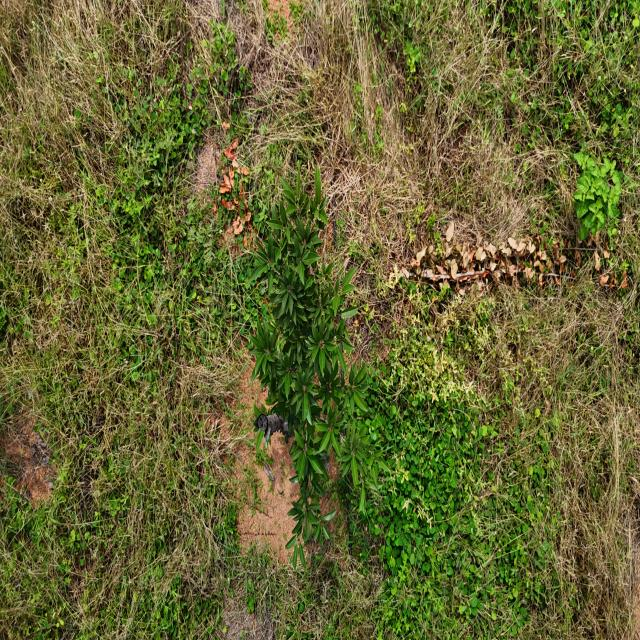notMangoTree: (240, 150, 386, 575), (570, 142, 628, 248)
